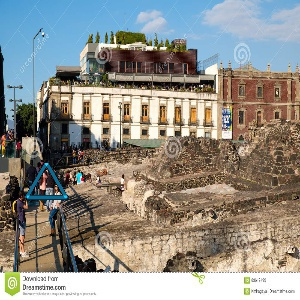triangle: (19, 157, 71, 203)
